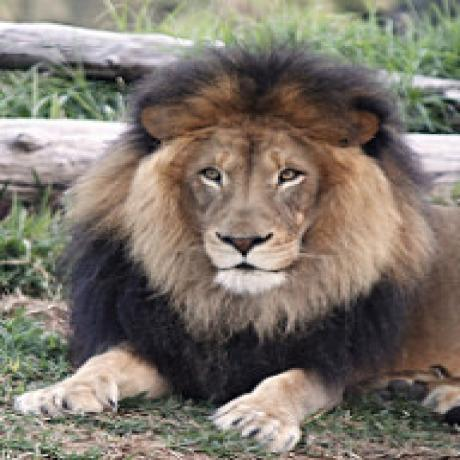Lion: (14, 23, 460, 449)
